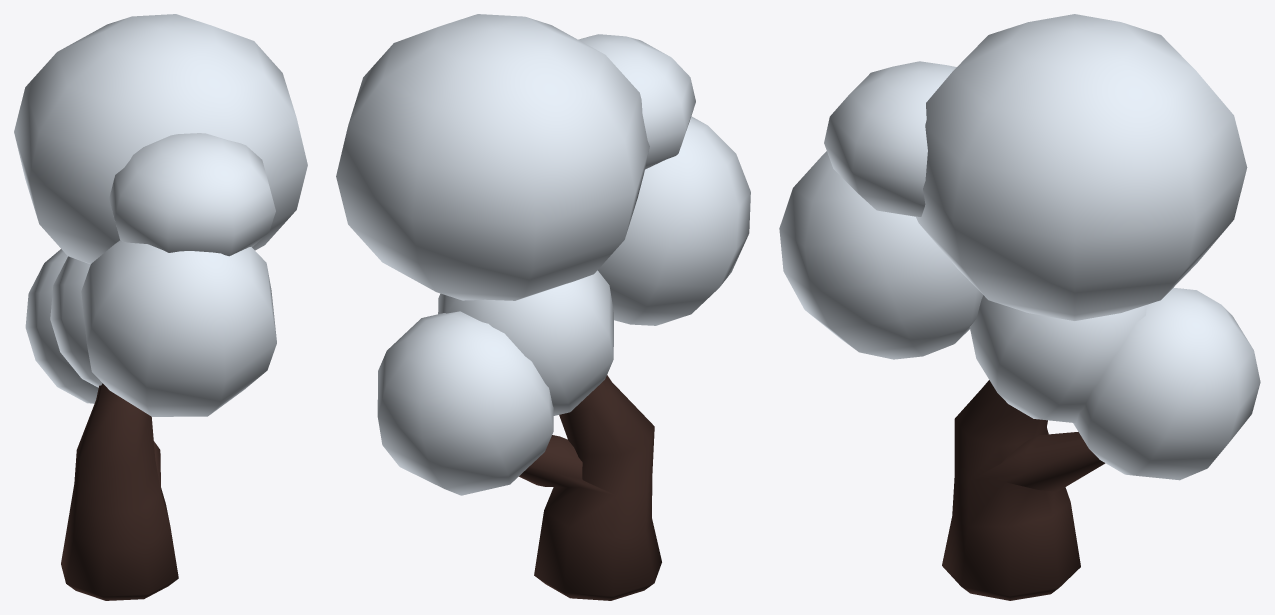
File: tree-36_col.fbx
The picture shows the model from 3 angles, left to right: view 1: azimuth 30°, elevation 25°; view 2: azimuth 150°, elevation 25°; view 3: azimuth 270°, elevation 25°; orthographic projection. The views are drawn at different scales.
Visible parts, largest first — view 1: tree-36.col; view 2: tree-36.col; view 3: tree-36.col.
Boxes of the visible parts, bbox=[...] form: tree-36.col: bbox=[14, 14, 307, 600]; tree-36.col: bbox=[336, 14, 750, 600]; tree-36.col: bbox=[779, 14, 1260, 600].
Bounding box in the file's own units: 0.7727 × 1.35 × 1.01.
1 material, 1 textured.
